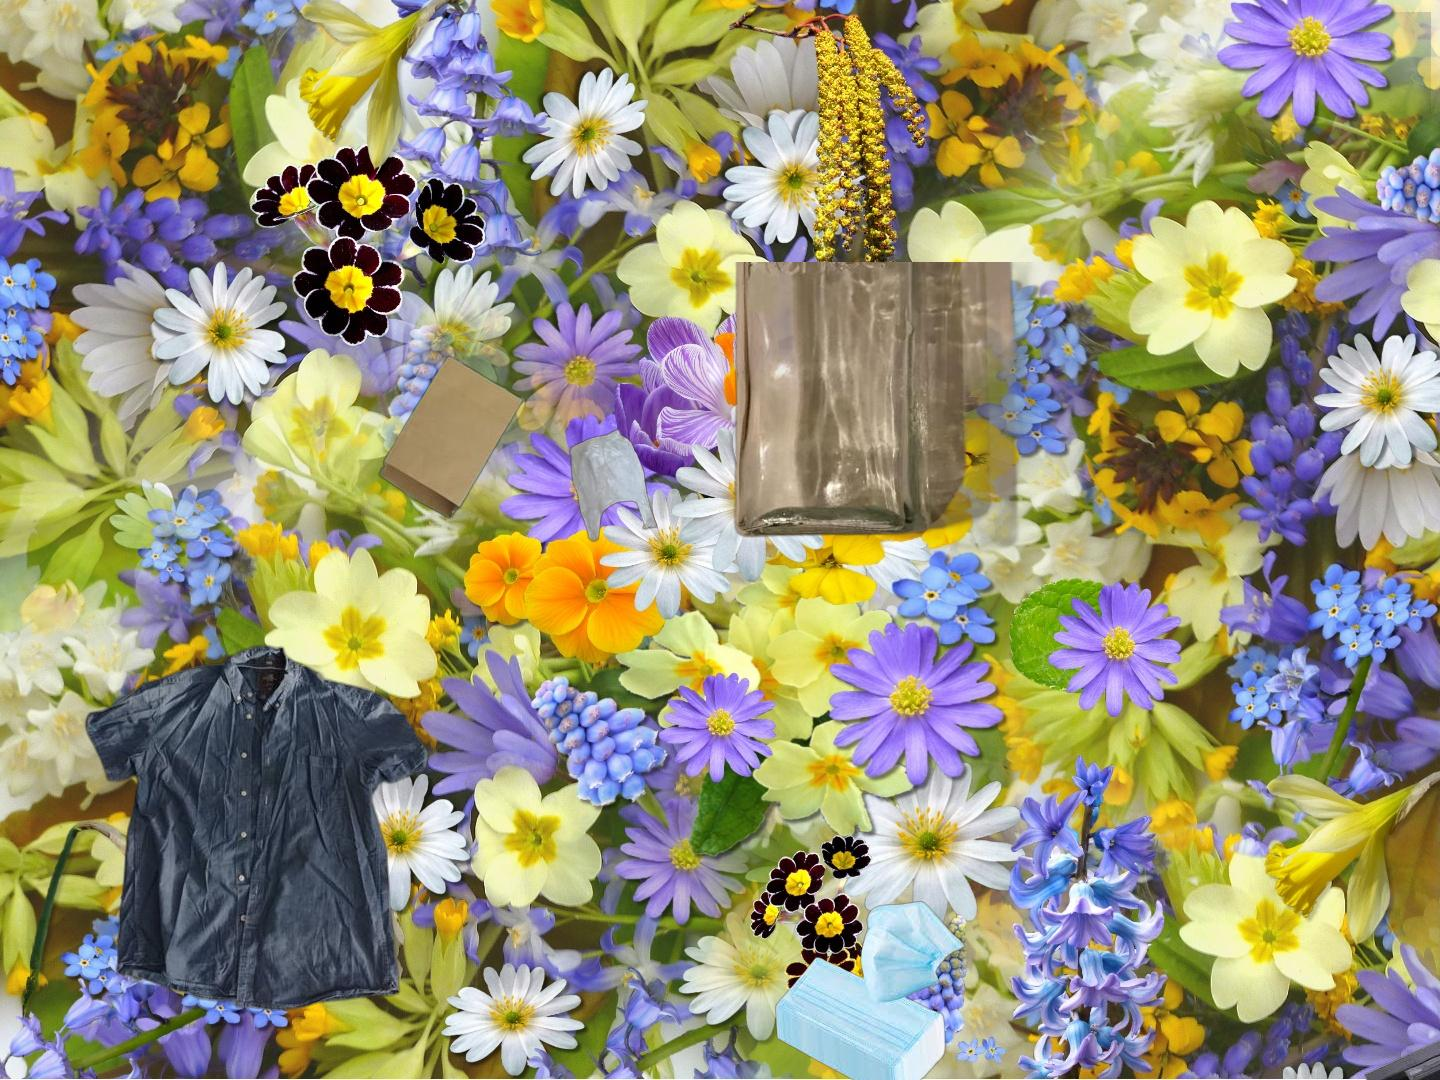battery: (1362, 988, 1440, 1080)
clothes: (81, 640, 431, 1015)
glass: (730, 262, 1147, 606)
paper-bag: (376, 353, 526, 521)
plastic-bag: (565, 427, 660, 545)
plastic-bottles: (1290, 132, 1440, 613)
trash: (773, 898, 968, 1080), (526, 1011, 780, 1080)
